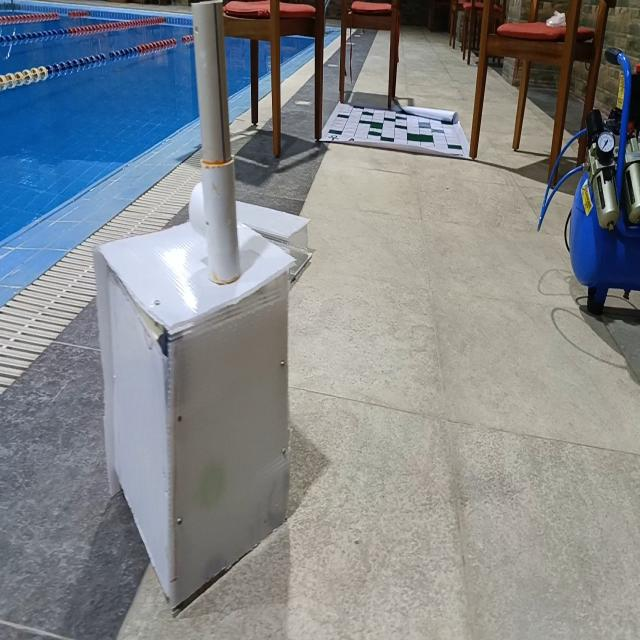Cube: (92, 213, 295, 610)
